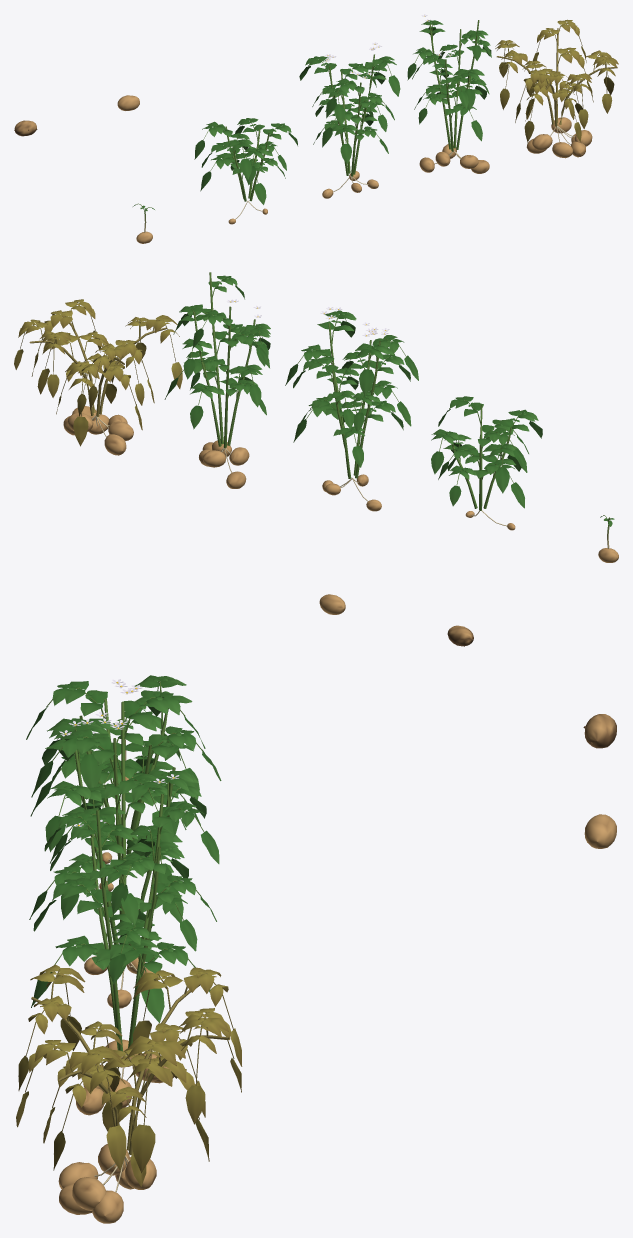
File: fieldworks_potato.glb
The picture shows the model from 3 angles, top to bottom: view 1: azimuth 30°, elevation 25°; view 2: azimuth 150°, elevation 25°; view 3: azimuth 270°, elevation 25°; orthographic projection. The views are drawn at different scales.
Visible parts, largest first — view 1: potato_stage5_ready, potato_stage4_tuber_bulking, potato_stage3_flowering, potato_stage2_vegetative; view 2: potato_stage5_ready, potato_stage3_flowering, potato_stage4_tuber_bulking, potato_stage2_vegetative; view 3: potato_stage5_ready, potato_stage4_tuber_bulking, potato_stage3_flowering, potato_stage2_vegetative, potato_item_dirty, potato_item_washed.
Part boxes in pixels (left/top/right/bottom): potato_stage5_ready: left=495, top=19, right=618, bottom=158; potato_stage4_tuber_bulking: left=407, top=14, right=491, bottom=173; potato_stage3_flowering: left=299, top=42, right=400, bottom=198; potato_stage2_vegetative: left=194, top=118, right=297, bottom=224; potato_stage5_ready: left=14, top=299, right=182, bottom=455; potato_stage3_flowering: left=285, top=307, right=418, bottom=511; potato_stage4_tuber_bulking: left=164, top=272, right=270, bottom=488; potato_stage2_vegetative: left=431, top=396, right=542, bottom=530; potato_stage5_ready: left=16, top=964, right=242, bottom=1223; potato_stage4_tuber_bulking: left=29, top=774, right=219, bottom=1115; potato_stage3_flowering: left=31, top=679, right=206, bottom=1008; potato_stage2_vegetative: left=26, top=675, right=221, bottom=891; potato_item_dirty: left=583, top=714, right=616, bottom=748; potato_item_washed: left=584, top=814, right=616, bottom=848.
Bounding box in the file's own units: 2.31 × 0.7223 × 1.26.
